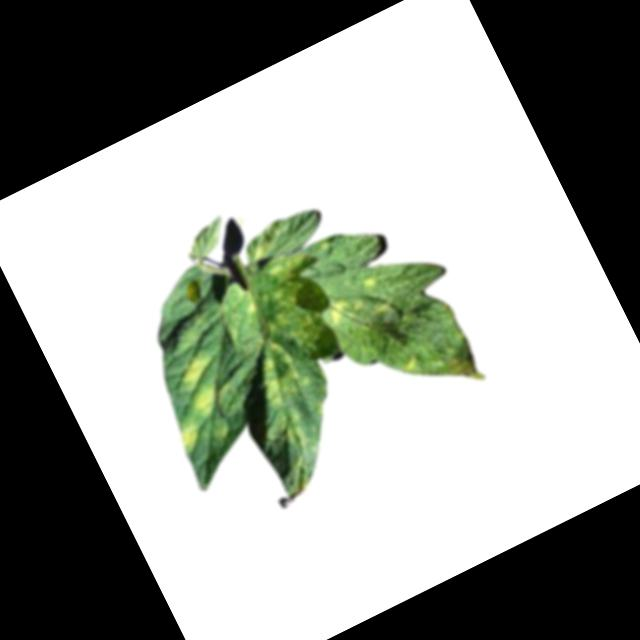Leaf_Mold: (242, 244, 350, 367), (244, 331, 320, 414), (174, 345, 241, 423), (262, 402, 322, 463), (433, 336, 489, 396), (325, 288, 368, 328), (172, 421, 204, 457), (401, 352, 425, 379), (358, 271, 383, 296)
